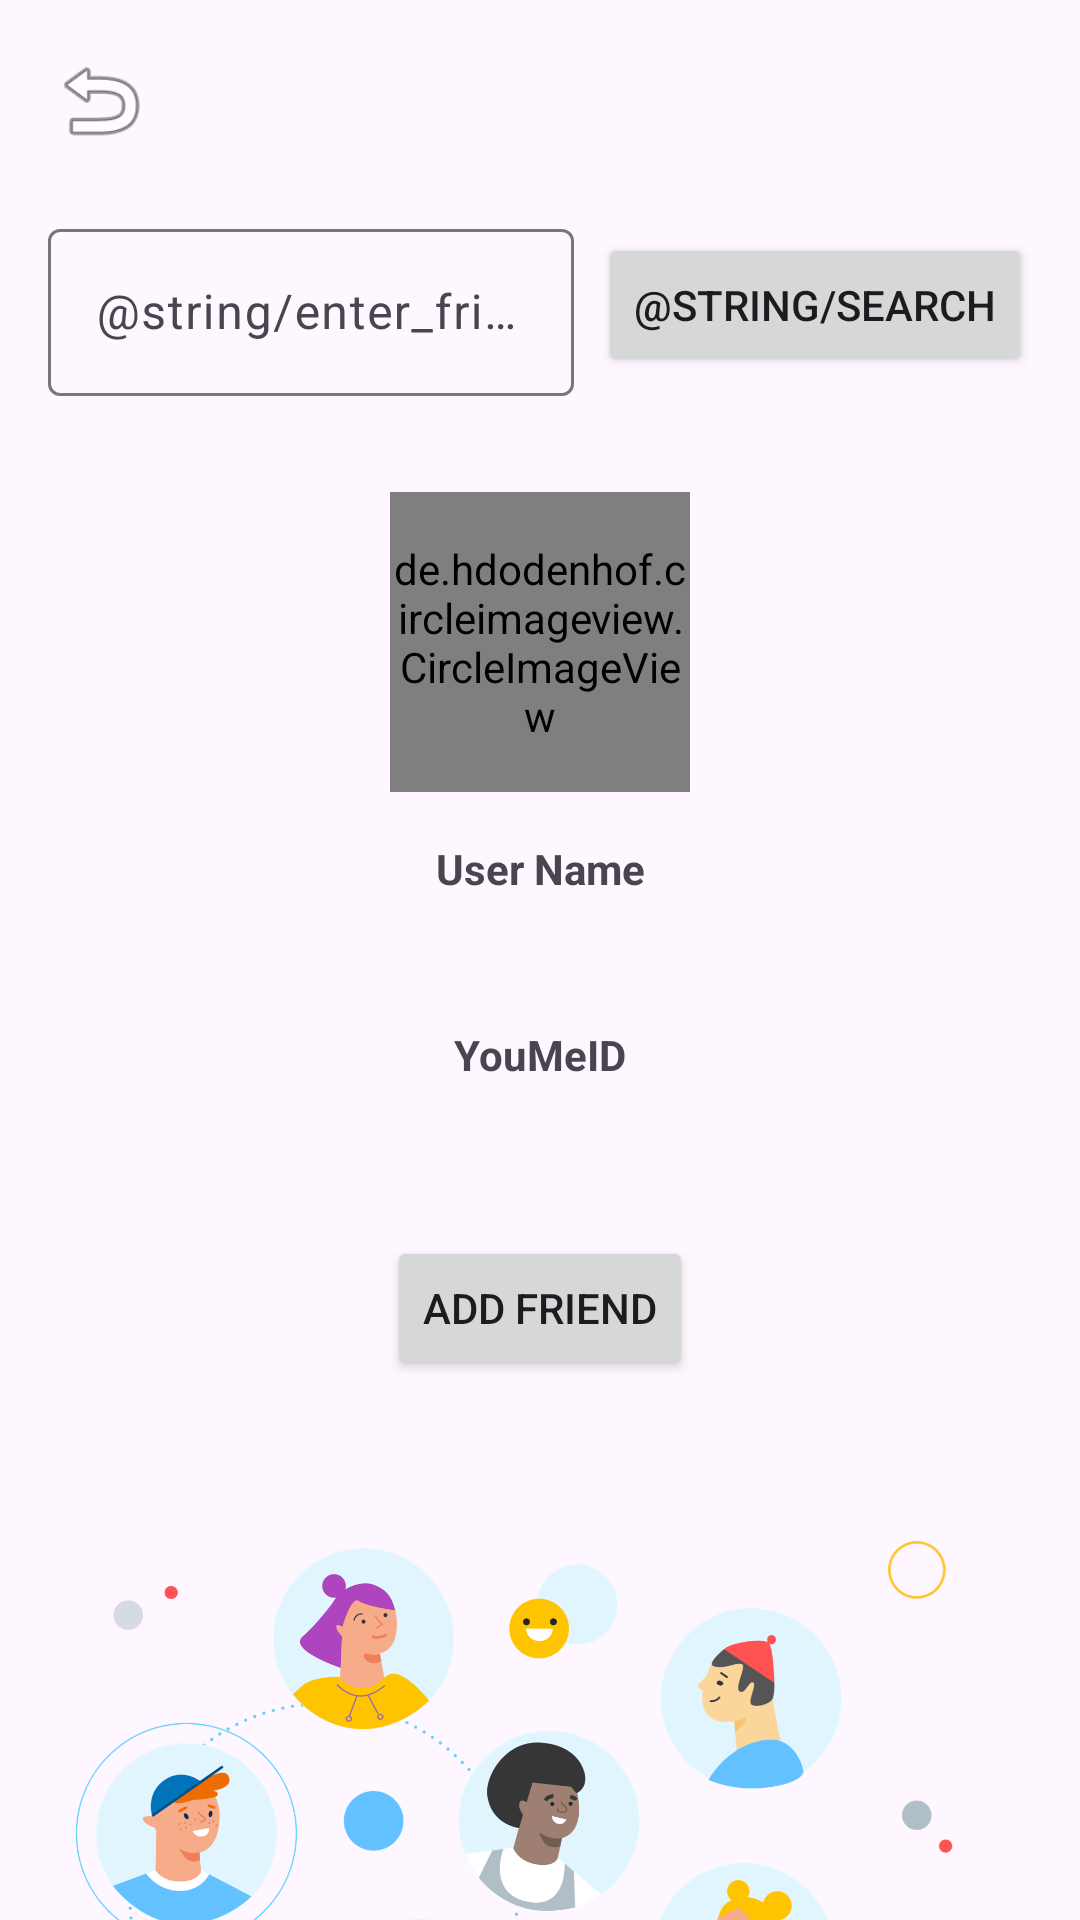

Where to tap for icons on this 1080x1920 app screen, as (x,y):
revert: (102,101)
